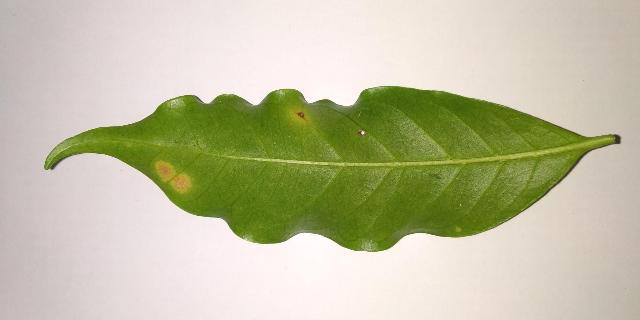miner: (155, 160, 192, 193), (292, 109, 309, 124), (358, 129, 366, 136)
